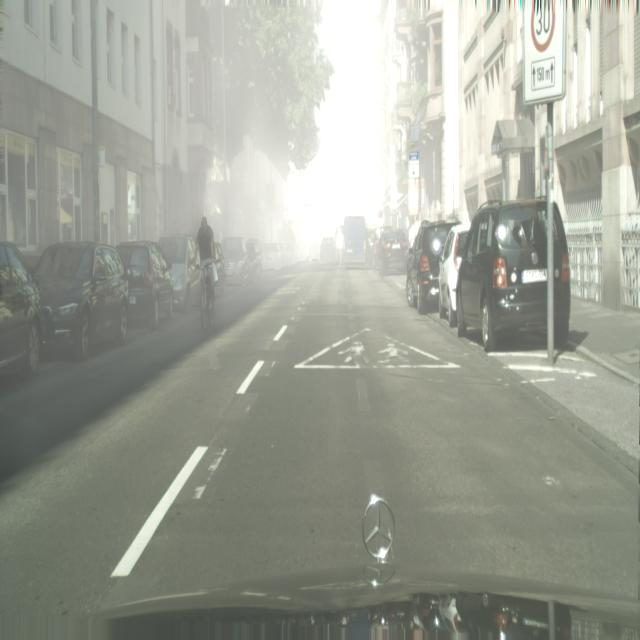car: (196, 204, 214, 330)
motorcycle: (341, 216, 368, 269)
person: (335, 224, 344, 267)
truck: (455, 198, 571, 352), (32, 241, 129, 360), (0, 242, 44, 378), (115, 242, 174, 329), (405, 220, 457, 313), (157, 233, 201, 311), (438, 224, 470, 327), (220, 236, 250, 286), (377, 228, 408, 276), (245, 238, 263, 282), (261, 241, 282, 276), (319, 235, 336, 266), (308, 238, 321, 261)
